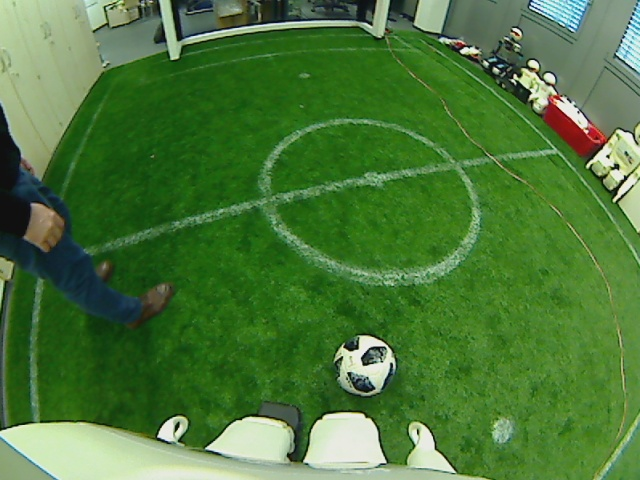ball: (331, 333, 396, 397)
